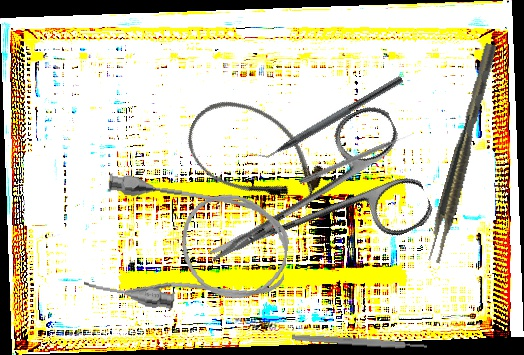Cannula: (82, 170, 295, 326), (173, 84, 338, 226)
Chopper: (249, 65, 404, 170)
Iris Scissors: (181, 99, 438, 312)
Pusher: (298, 131, 416, 186)
Scalpel Handle: (291, 333, 428, 351)
Tissue Forceps: (423, 42, 504, 265)
